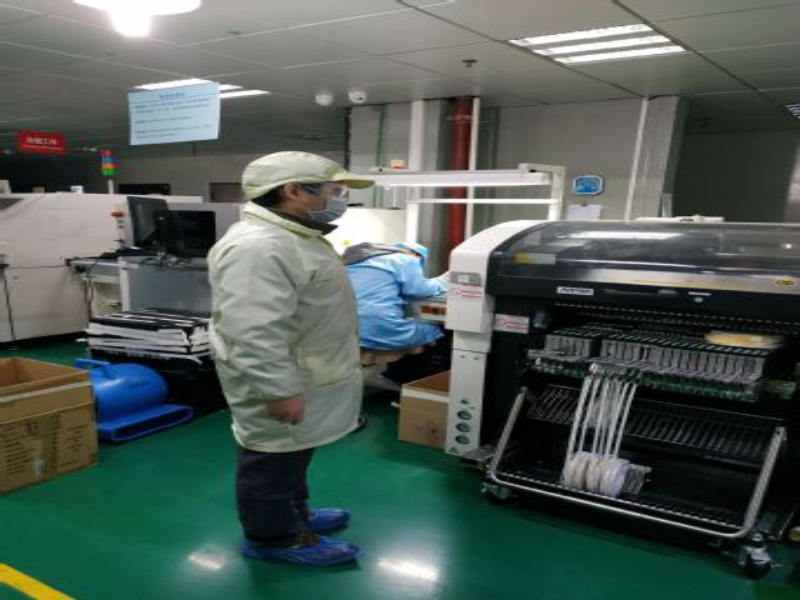ManaoArotava: (282, 148, 359, 257)
